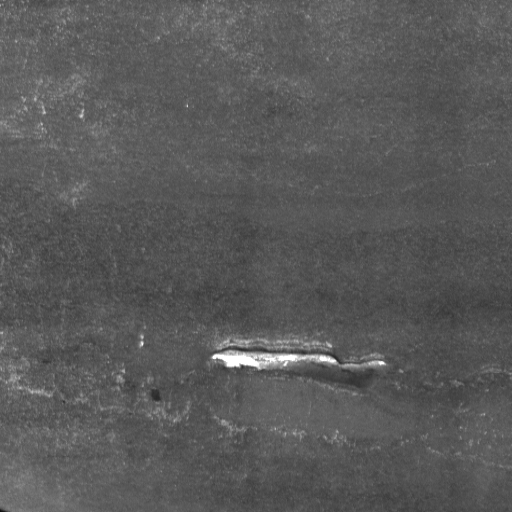aokeng: (207, 339, 391, 397)
